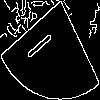I: (25, 24, 60, 62)
